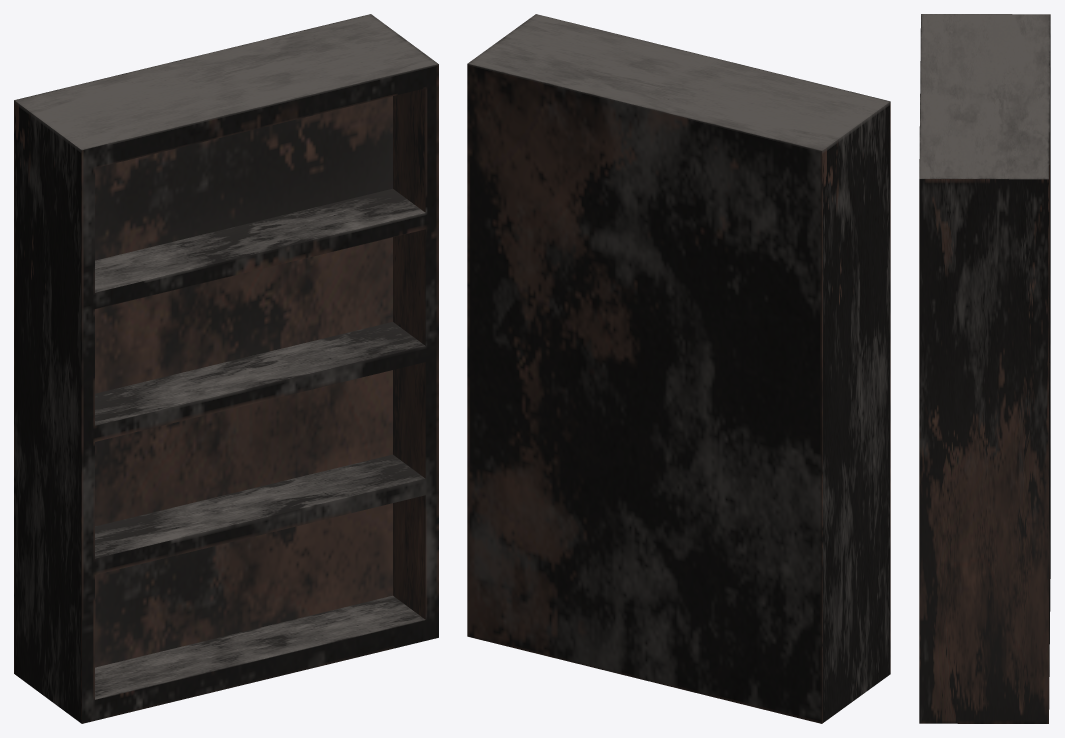
File: estante.glb
3 renders of one model, left to right at view 1: azimuth 30°, elevation 25°; view 2: azimuth 150°, elevation 25°; view 3: azimuth 270°, elevation 25°, orthographic. The views are drawn at different scales.
Parts seen in each view (by area): view 1: Cube.015; view 2: Cube.015; view 3: Cube.015.
Boxes of the visible parts, bbox=[...] form: Cube.015: bbox=[14, 14, 438, 723]; Cube.015: bbox=[467, 14, 890, 723]; Cube.015: bbox=[919, 14, 1050, 723].
Bounding box in the file's own units: 1.68 × 2.58 × 0.5643.
Materials: 1 (1 with a texture image).
